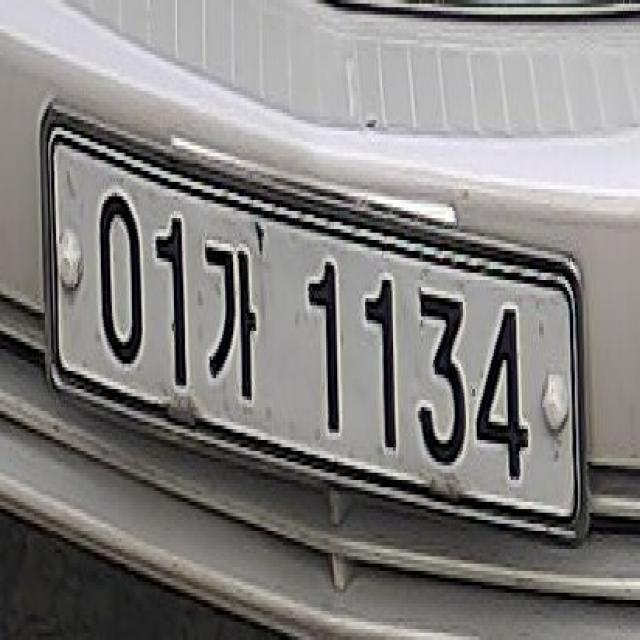0: (90, 176, 149, 384)
1: (355, 250, 410, 470), (144, 202, 198, 414), (299, 245, 352, 461)
3: (411, 278, 473, 488)
4: (472, 295, 532, 497)
ga: (196, 227, 266, 430)
license_plate: (38, 102, 592, 558)
